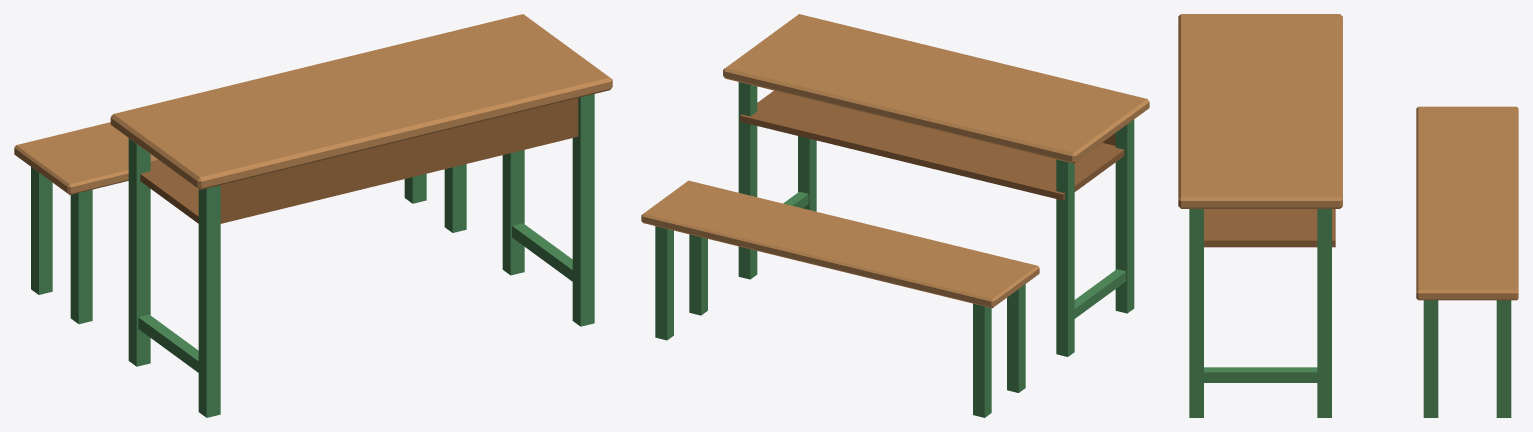
The model's file is prp_desk_2seat.glb.
3 views of the same model, side by side, from view 1: azimuth 30°, elevation 25°; view 2: azimuth 150°, elevation 25°; view 3: azimuth 270°, elevation 25° (orthographic). The views are drawn at different scales.
Parts seen in each view (by area): view 1: PRP_DESK_2SEAT_desk, PRP_DESK_2SEAT_seat; view 2: PRP_DESK_2SEAT_desk, PRP_DESK_2SEAT_seat; view 3: PRP_DESK_2SEAT_desk, PRP_DESK_2SEAT_seat.
Part boxes in pixels (x1,y1,x2,y2): PRP_DESK_2SEAT_desk: [110, 14, 612, 417]; PRP_DESK_2SEAT_seat: [14, 122, 466, 324]; PRP_DESK_2SEAT_desk: [723, 14, 1149, 356]; PRP_DESK_2SEAT_seat: [641, 180, 1039, 417]; PRP_DESK_2SEAT_desk: [1178, 14, 1342, 417]; PRP_DESK_2SEAT_seat: [1416, 106, 1518, 417].
Bounding box in the file's own units: 1.2 × 0.68 × 0.93.
